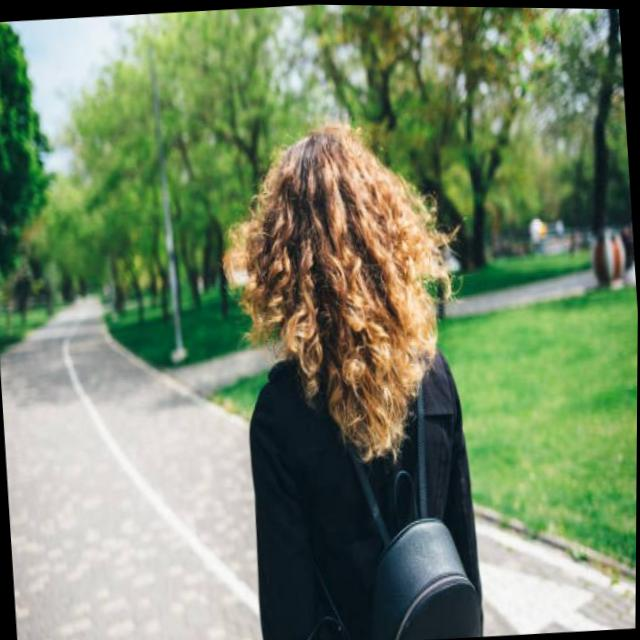no helmet: (251, 126, 444, 384)
